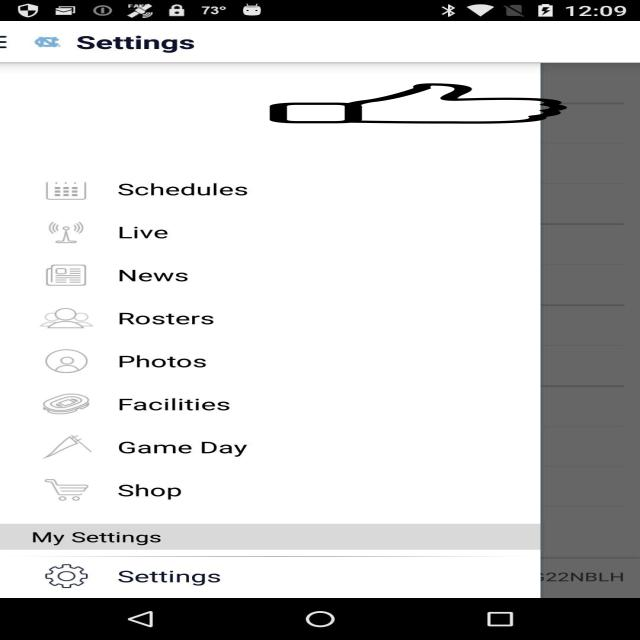privacy zuckering: (266, 83, 572, 124)
